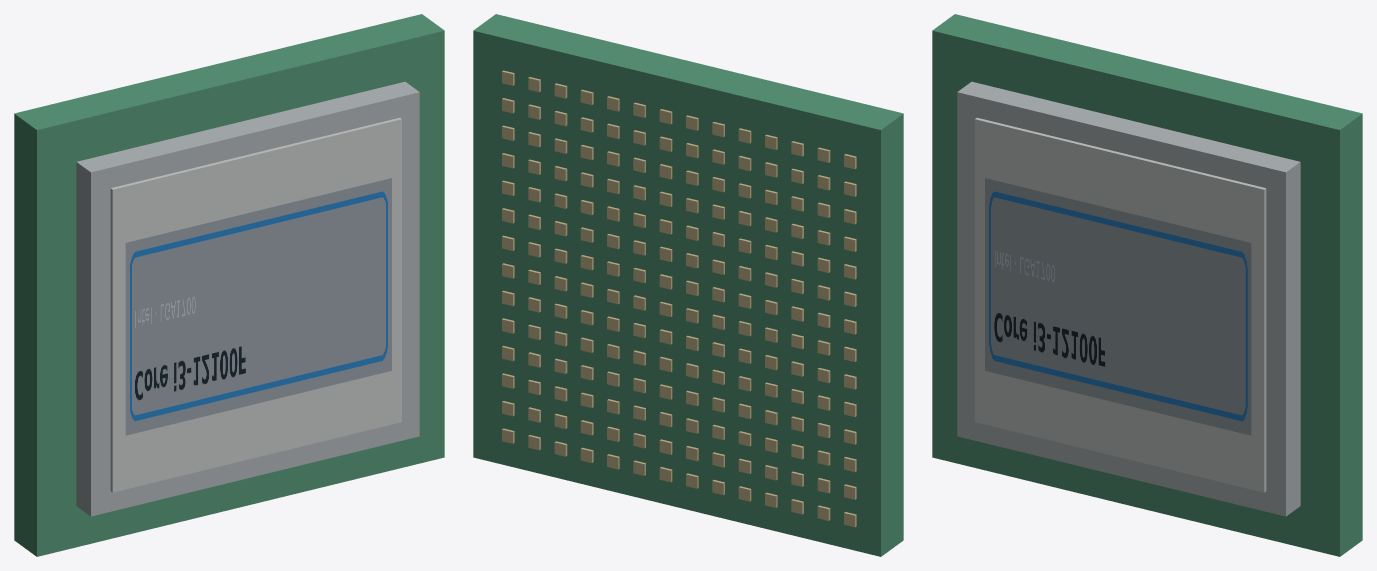
File: cpu_intel_core_i3_12100f.glb
The picture shows the model from 3 angles, left to right: view 1: azimuth 30°, elevation 25°; view 2: azimuth 150°, elevation 25°; view 3: azimuth 330°, elevation 25°; orthographic projection.
Parts seen in each view (by area): view 1: n1, n0, n4, n3; view 2: n1, n2; view 3: n1, n0, n4, n3.
Boxes of the visible parts, x1,y1,x2,y2 form: n1: [14, 14, 444, 556]; n0: [125, 178, 391, 435]; n4: [110, 117, 401, 492]; n3: [76, 81, 419, 516]; n1: [473, 14, 903, 556]; n2: [502, 70, 856, 527]; n1: [932, 14, 1362, 556]; n0: [985, 178, 1251, 435]; n4: [975, 117, 1266, 492]; n3: [957, 81, 1300, 516].
Bounding box in the file's own units: 0.62 × 0.62 × 0.112.
1 material, 1 textured.
